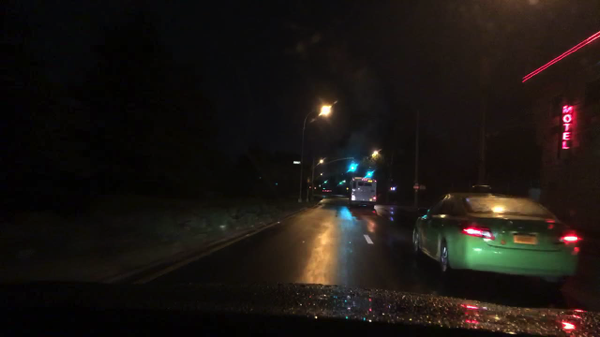car: (411, 184, 587, 290), (326, 189, 331, 193), (321, 189, 326, 192)
traffic light: (350, 162, 354, 170), (367, 169, 370, 177), (414, 185, 418, 190), (338, 181, 342, 185), (324, 179, 325, 184)
truck: (347, 177, 377, 209)
